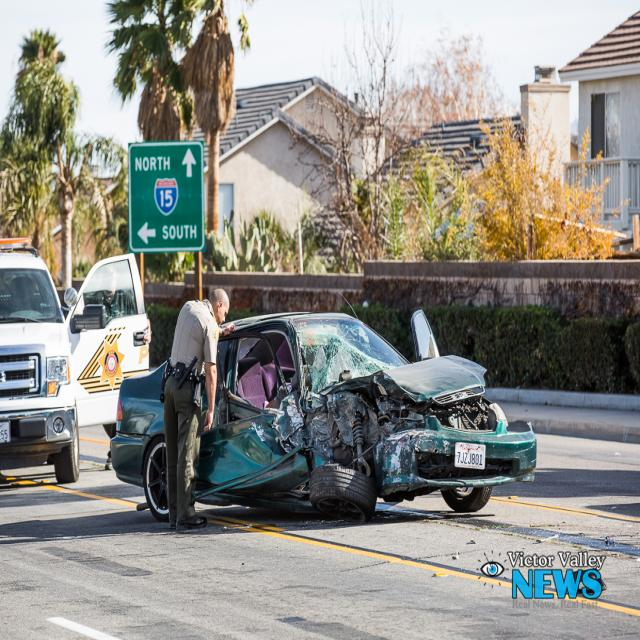Accident: (100, 306, 536, 524)
